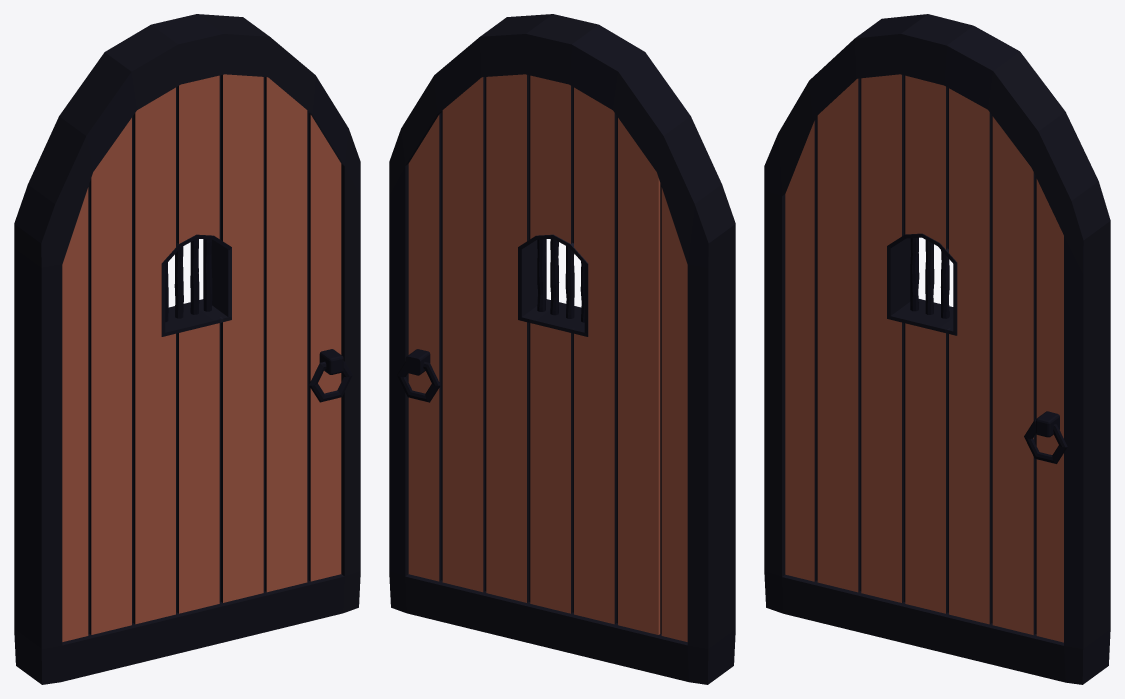
The model's file is door3.fbx.
3 renders of one model, left to right at view 1: azimuth 30°, elevation 25°; view 2: azimuth 150°, elevation 25°; view 3: azimuth 330°, elevation 25°, orthographic.
Parts seen in each view (by area): view 1: door3; view 2: door3; view 3: door3.
Boxes of the visible parts, x1,y1,x2,y2 form: door3: (14, 14, 360, 684); door3: (389, 14, 735, 684); door3: (764, 14, 1110, 684).
Bounding box in the file's own units: 116 × 210 × 27.98.
